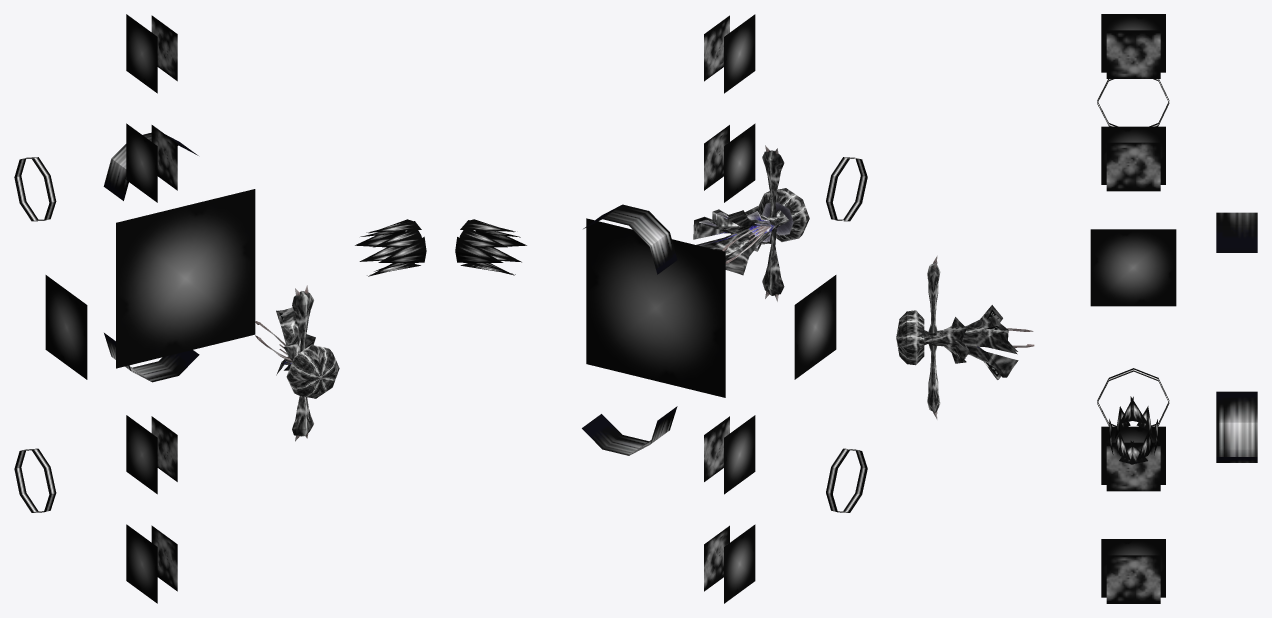
3 views of the same model, side by side, from view 1: azimuth 30°, elevation 25°; view 2: azimuth 150°, elevation 25°; view 3: azimuth 270°, elevation 25° (orthographic). The views are drawn at different scales.
Parts seen in each view (by area): view 1: M_0051_1; view 2: M_0051_1, M_0051_0; view 3: M_0051_1.
Boxes of the visible parts, bbox=[...] form: M_0051_1: bbox=[14, 14, 426, 603]; M_0051_1: bbox=[455, 14, 867, 603]; M_0051_0: bbox=[699, 145, 793, 301]; M_0051_1: bbox=[896, 14, 1257, 603].
Size of the model in its own units: 9.9 by 14 by 7.87.
2 materials, 2 textured.
